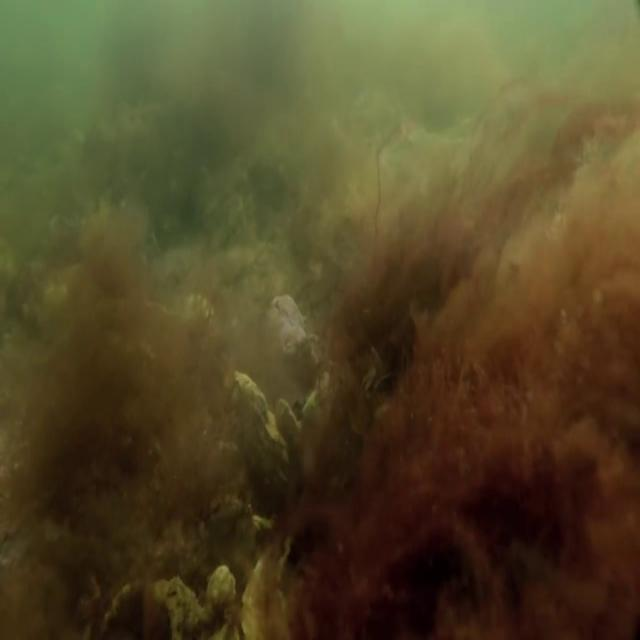Oyster-Closed: (221, 360, 293, 488)
Oyster-Indeterminate: (100, 563, 244, 637)
